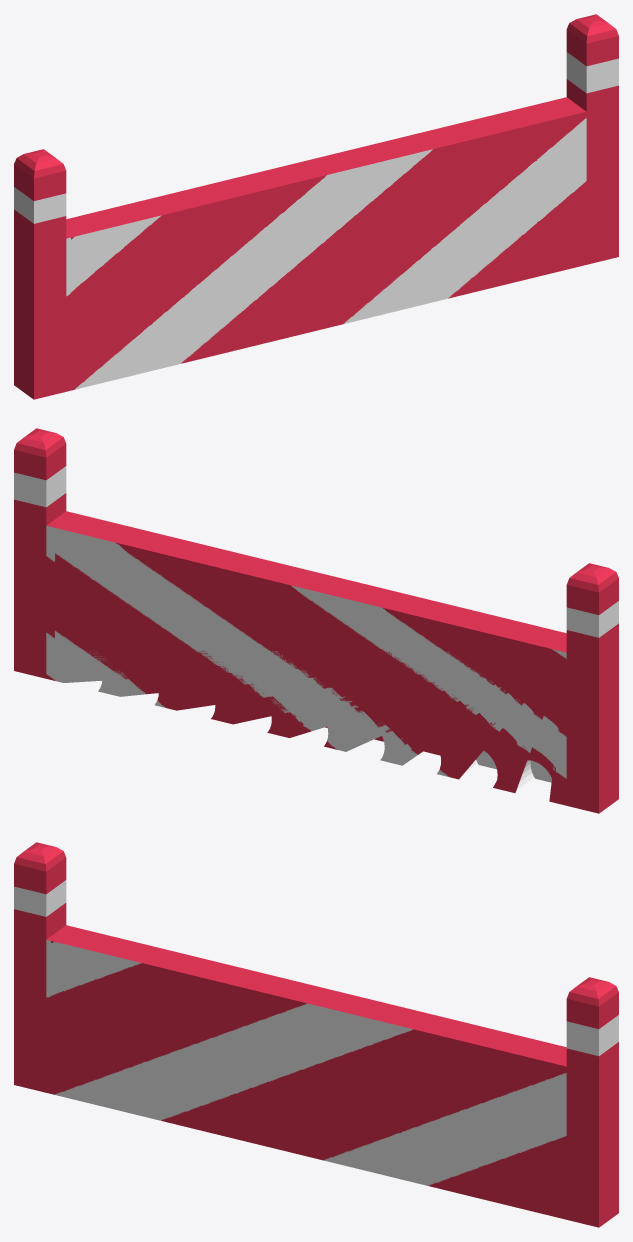
Rendered from WallWithHoles.fbx.
3 views of the same model, one above another, from view 1: azimuth 30°, elevation 25°; view 2: azimuth 150°, elevation 25°; view 3: azimuth 330°, elevation 25° (orthographic).
Visible parts, largest first — view 1: Cube.014; view 2: Cube.014; view 3: Cube.014.
Boxes of the visible parts, x1=… form: Cube.014: x1=14, y1=14, x2=618, y2=399; Cube.014: x1=14, y1=428, x2=618, y2=813; Cube.014: x1=14, y1=842, x2=618, y2=1227.
Size of the model in its own units: 251 by 95.92 by 14.77.
Materials: 1 (1 with a texture image).
